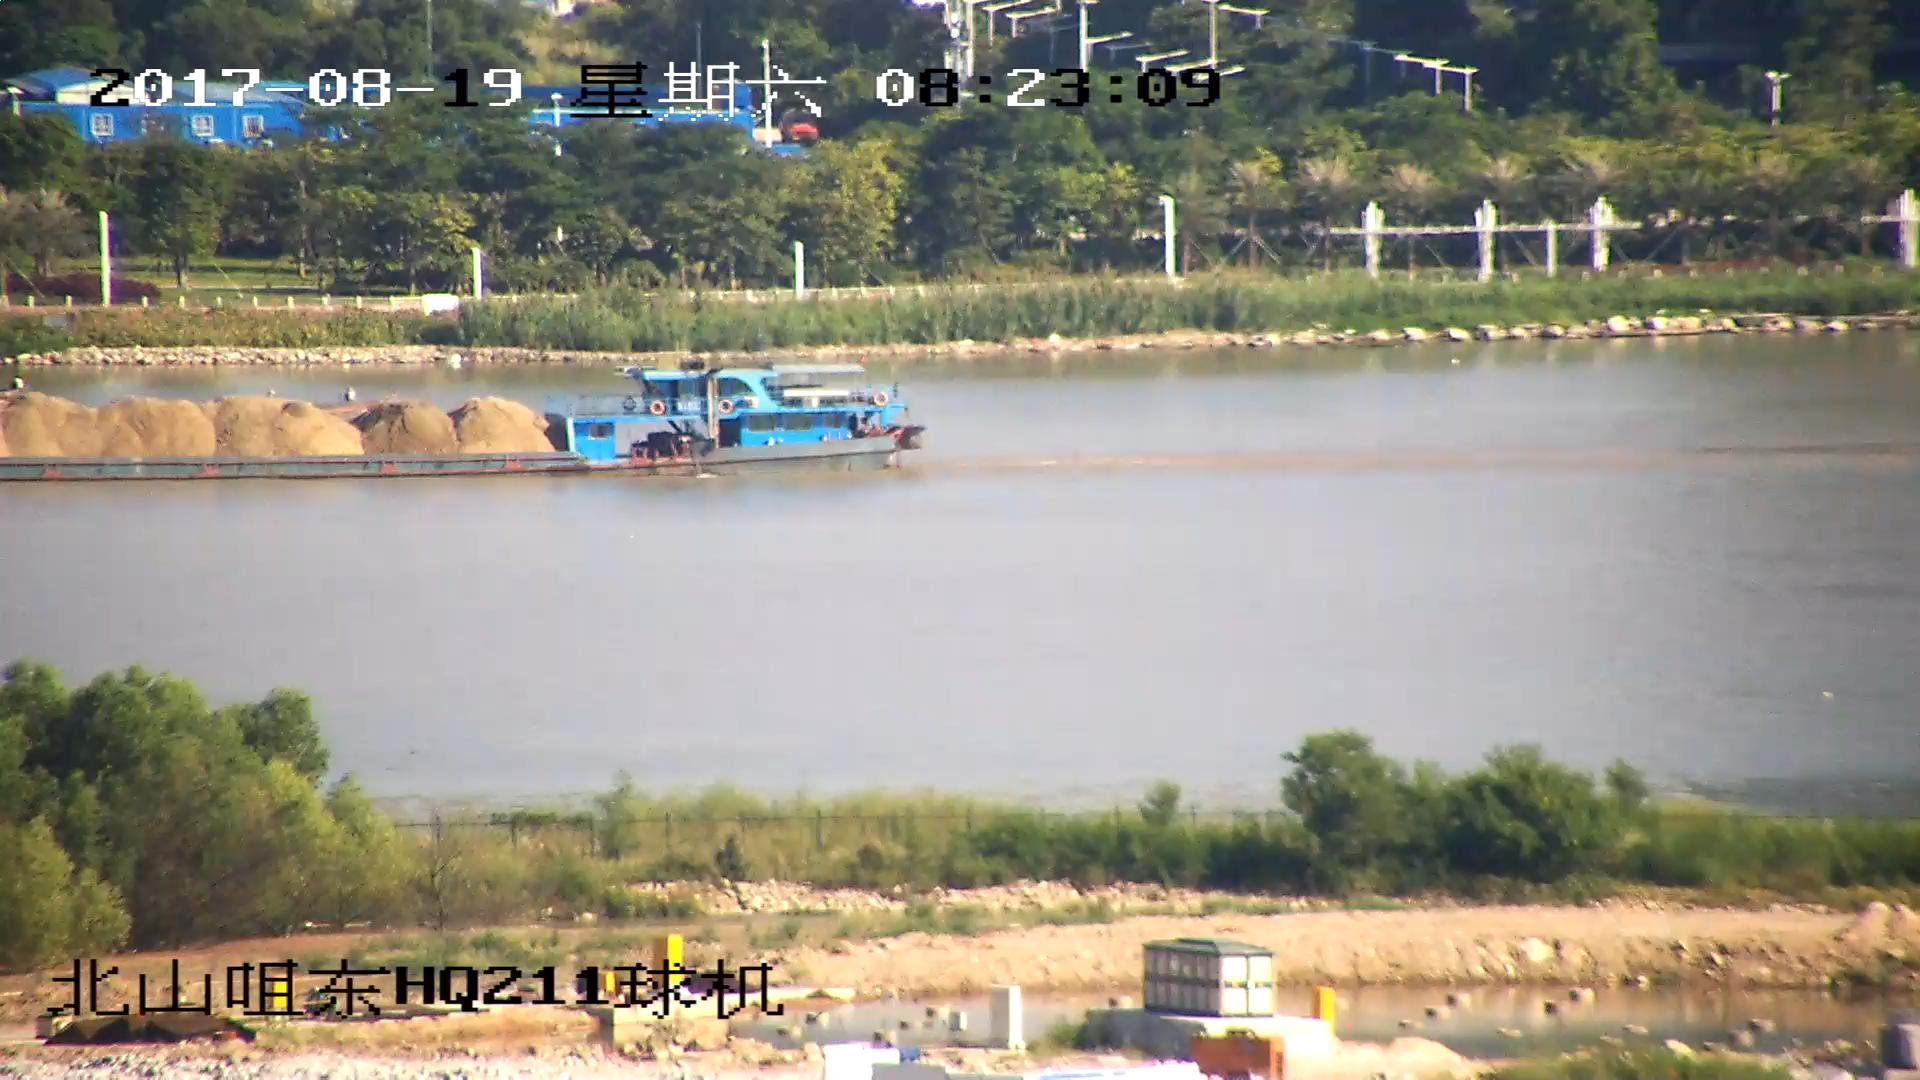Ship: (3, 359, 924, 483)
